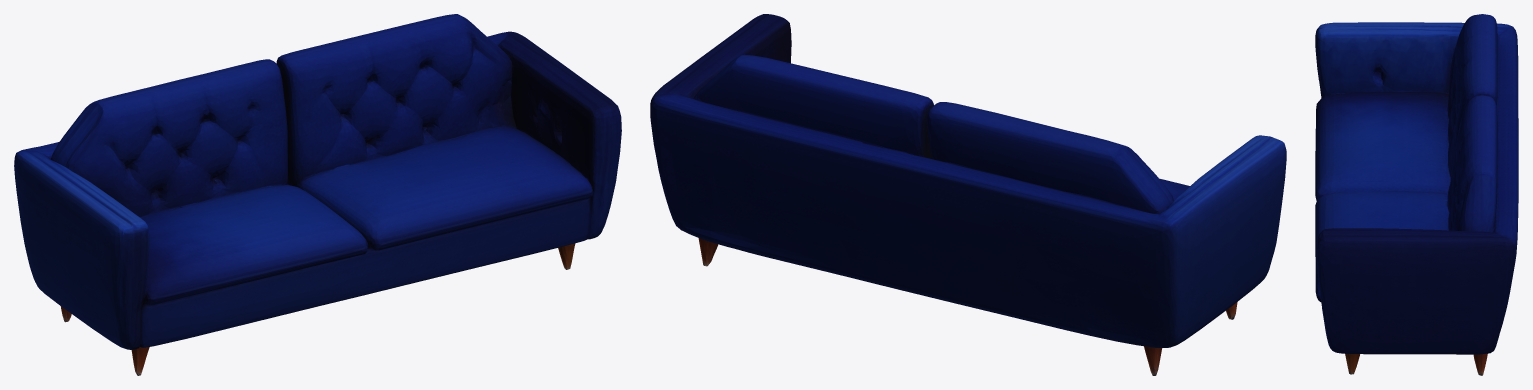
Rendered from f540a_d_3_seater_sofa_bed_blue_v_burgu.glb.
The picture shows the model from 3 angles, left to right: view 1: azimuth 30°, elevation 25°; view 2: azimuth 150°, elevation 25°; view 3: azimuth 270°, elevation 25°; orthographic projection. The views are drawn at different scales.
Visible parts, largest first — view 1: world; view 2: world; view 3: world.
Boxes of the visible parts, <box> form: world: <box>14,14,621,375</box>; world: <box>650,14,1286,375</box>; world: <box>1315,14,1518,375</box>.
Bounding box in the file's own units: 0.9975 × 0.3958 × 0.3854.
1 material, 1 textured.
